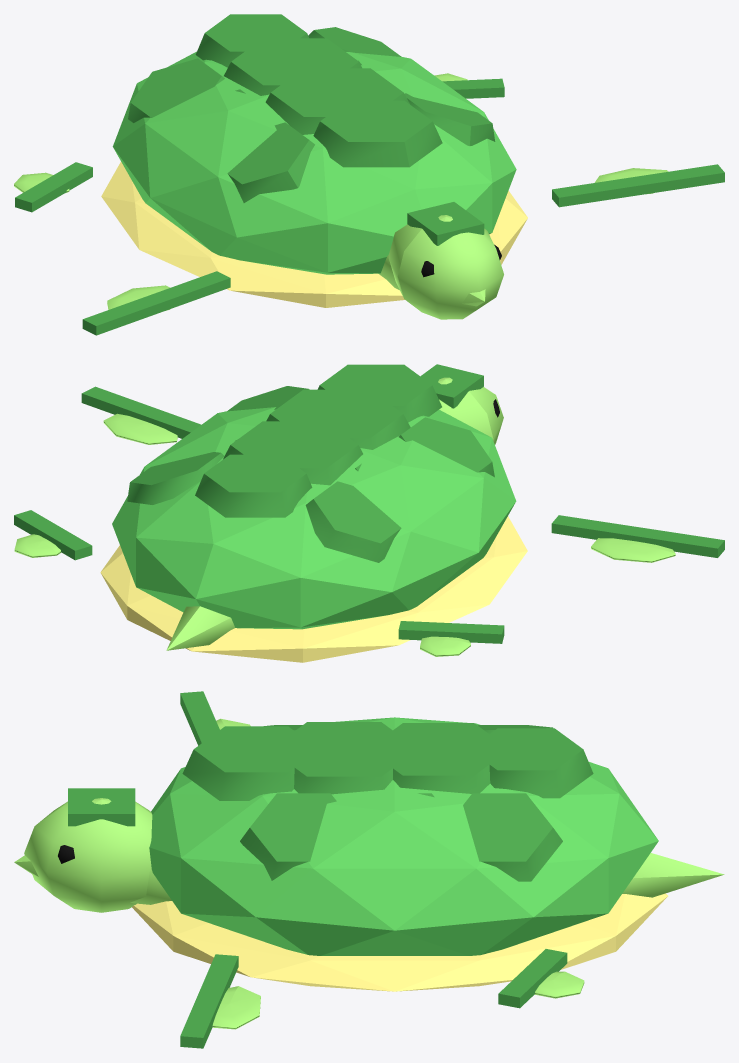
The model's file is turtle.glb.
The picture shows the model from 3 angles, top to bottom: view 1: azimuth 30°, elevation 25°; view 2: azimuth 150°, elevation 25°; view 3: azimuth 270°, elevation 25°; orthographic projection. The views are drawn at different scales.
Parts seen in each view (by area): view 1: turtle, flipper-fr, flipper-fl, flipper-rl, flipper-rr; view 2: turtle, flipper-fl, flipper-fr, flipper-rl, flipper-rr; view 3: turtle, flipper-fr, flipper-rr, flipper-fl.
Part boxes in pixels (x1,y1,x2,y2): turtle: [101, 14, 527, 319]; flipper-fr: [552, 164, 724, 207]; flipper-fl: [82, 271, 230, 335]; flipper-rl: [14, 162, 92, 212]; flipper-rr: [434, 73, 504, 98]; turtle: [100, 364, 527, 662]; flipper-fl: [551, 515, 724, 562]; flipper-fr: [81, 386, 201, 444]; flipper-rl: [398, 621, 504, 656]; flipper-rr: [14, 510, 92, 560]; turtle: [14, 717, 724, 991]; flipper-fr: [180, 954, 260, 1048]; flipper-rr: [498, 949, 584, 1008]; flipper-fl: [180, 691, 250, 745].
Bounding box in the file's own units: 2.43 × 0.6268 × 2.11.
